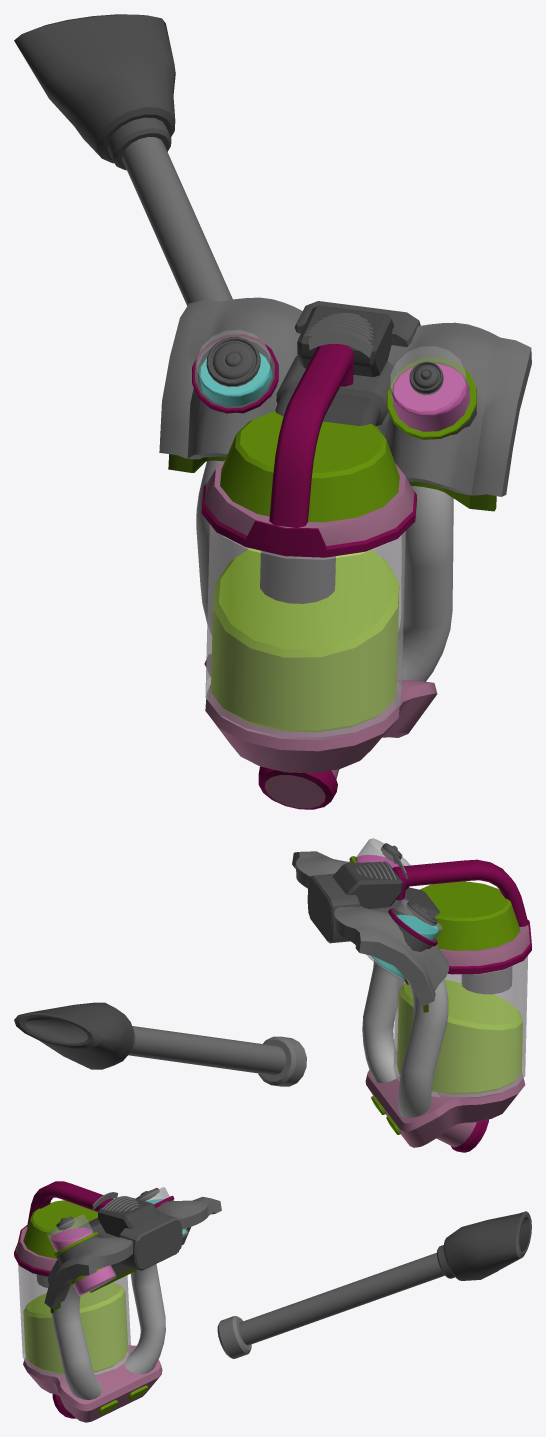
The model's file is cleaner.fbx.
3 renders of one model, top to bottom at view 1: azimuth 30°, elevation 25°; view 2: azimuth 150°, elevation 25°; view 3: azimuth 270°, elevation 25°, orthographic. The views are drawn at different scales.
Parts seen in each view (by area): view 1: polySurface684, polySurface618; view 2: polySurface684, polySurface618; view 3: polySurface684, polySurface618.
Part boxes in pixels (x1,y1,x2,y2): polySurface684: [159, 297, 531, 809]; polySurface618: [14, 14, 232, 305]; polySurface684: [292, 838, 531, 1152]; polySurface618: [14, 1002, 306, 1086]; polySurface684: [14, 1181, 221, 1422]; polySurface618: [217, 1211, 531, 1358].
Bounding box in the file's own units: 13.89 × 16.7 × 31.91.
